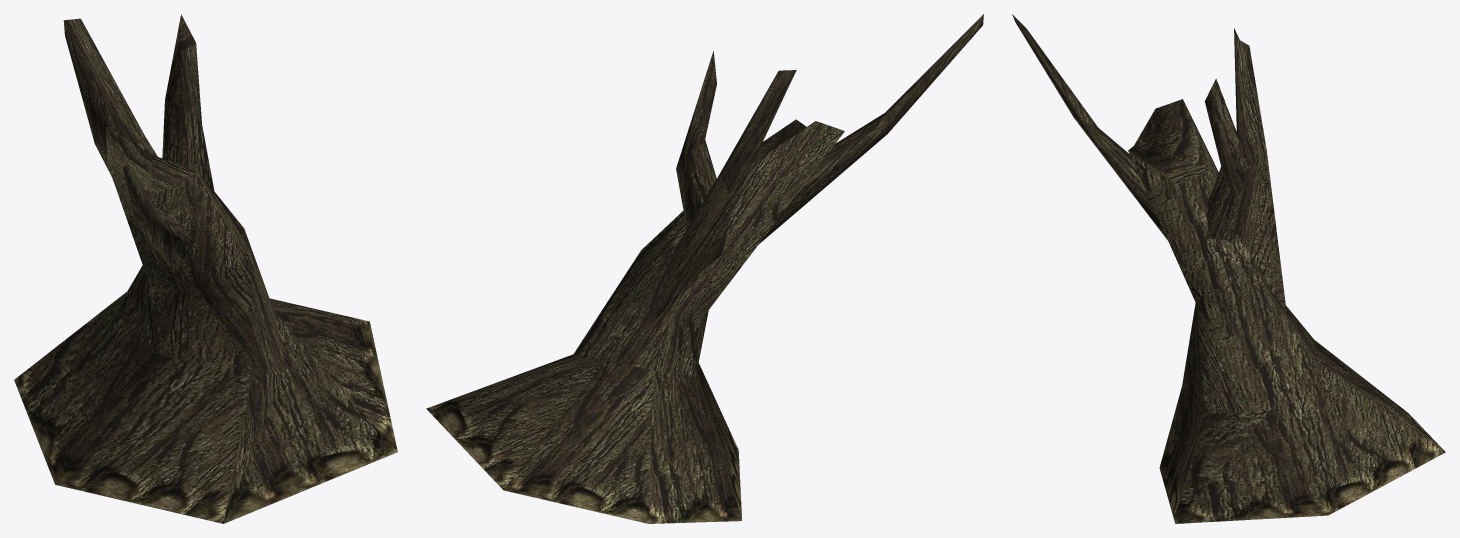
File: OW_LOB_DEADTREE_04.glb
The picture shows the model from 3 angles, left to right: view 1: azimuth 30°, elevation 25°; view 2: azimuth 150°, elevation 25°; view 3: azimuth 270°, elevation 25°; orthographic projection. The views are drawn at different scales.
Parts seen in each view (by area): view 1: Mesh; view 2: Mesh; view 3: Mesh.
Part boxes in pixels (<box>): Mesh: <box>14,14,397,523</box>; Mesh: <box>426,14,983,523</box>; Mesh: <box>1012,14,1445,523</box>.
Bounding box in the file's own units: 6.11 × 6.57 × 6.52.
Materials: 2 (2 with a texture image).
